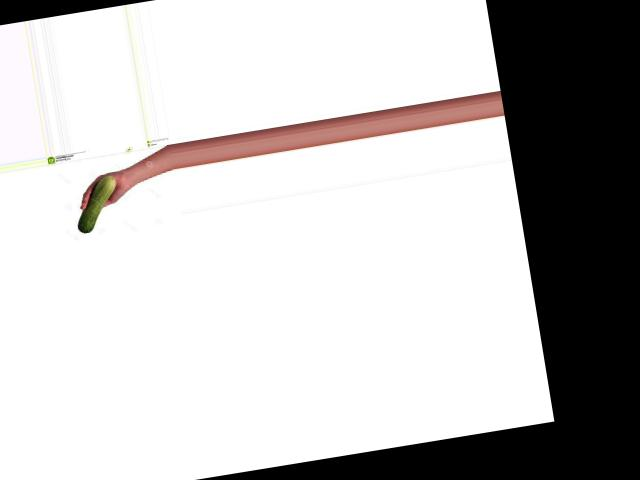cucumber: (71, 174, 123, 233)
